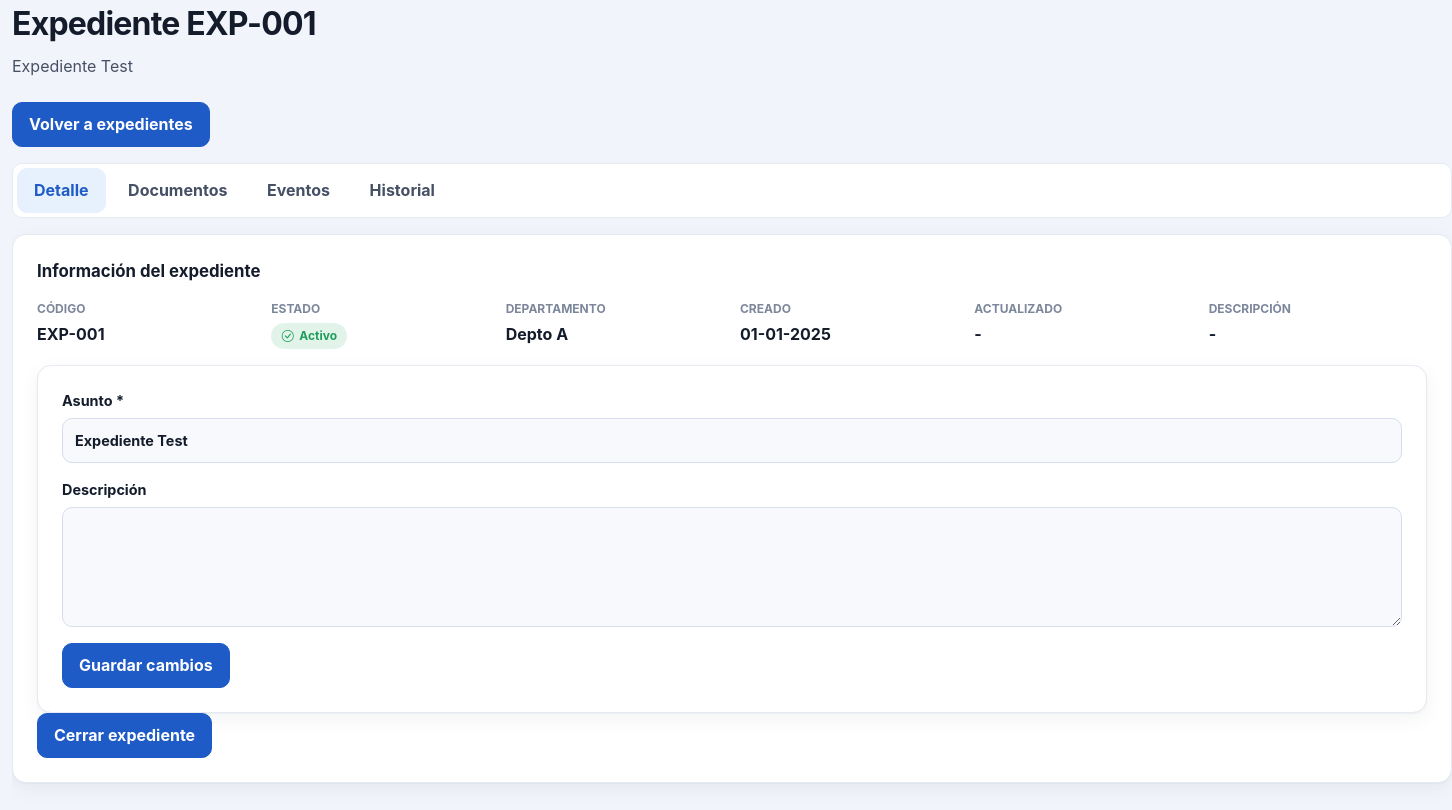
Test: ExpedientDetailPage › muestra evento de timeline
expect the text "EXP-001" is shown: met, box [37, 324, 104, 344]
Click the button "Eventos". click: (298, 190)
box: [250, 168, 347, 213]
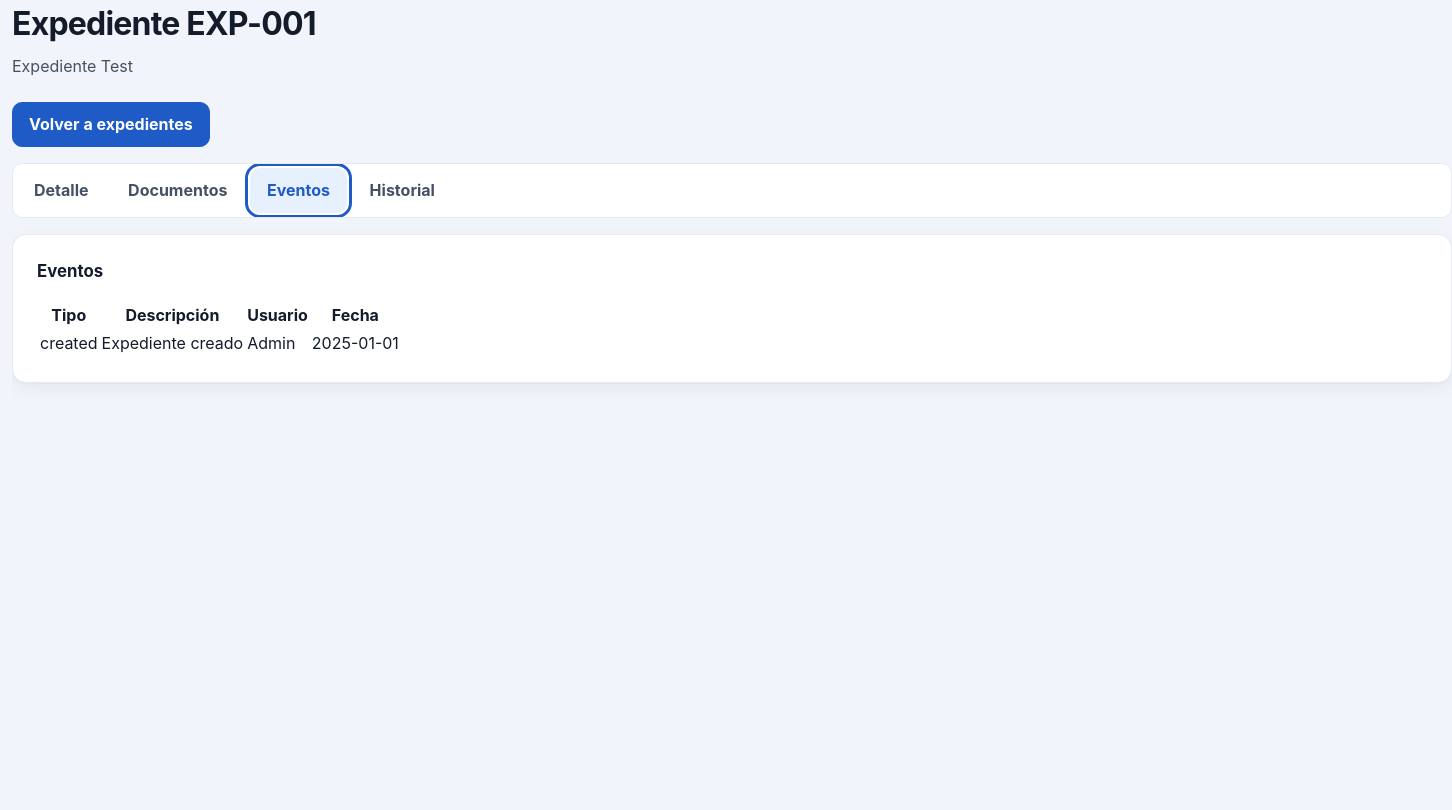
expect the text "Expediente creado" is shown: met, box [101, 330, 244, 356]
